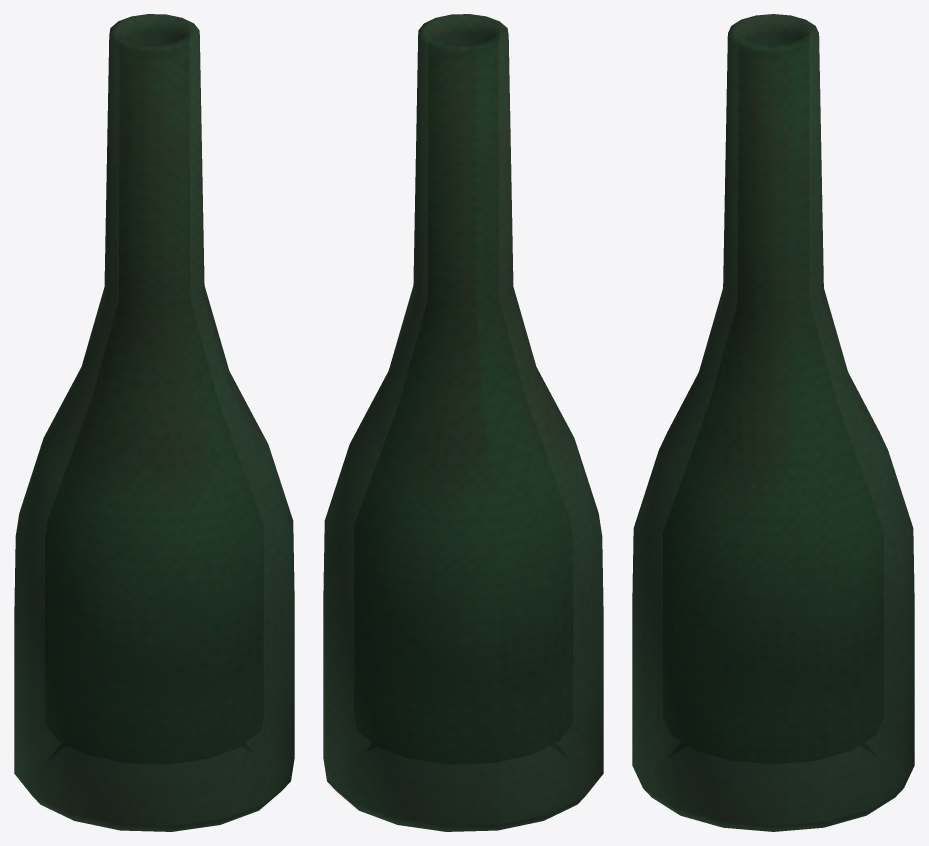
File: BottleCampagne.fbx
The picture shows the model from 3 angles, left to right: view 1: azimuth 30°, elevation 25°; view 2: azimuth 150°, elevation 25°; view 3: azimuth 270°, elevation 25°; orthographic projection.
Visible parts, largest first — view 1: BottleCampagne; view 2: BottleCampagne; view 3: BottleCampagne.
Boxes of the visible parts, <box> form: BottleCampagne: <box>14,14,294,831</box>; BottleCampagne: <box>323,14,603,831</box>; BottleCampagne: <box>632,14,914,831</box>.
Size of the model in its own units: 0.164 by 0.4783 by 0.164.
1 material, 1 textured.
